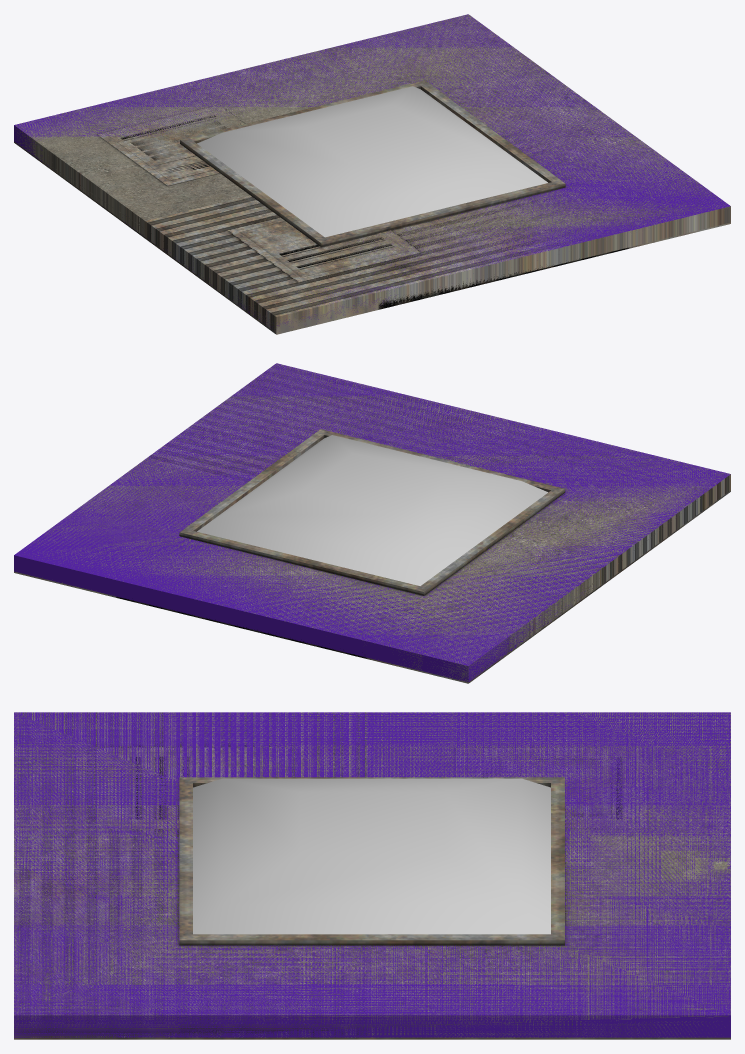
Rendered from ceiling_tile_skylight.DAE.
3 renders of one model, top to bottom at view 1: azimuth 30°, elevation 25°; view 2: azimuth 150°, elevation 25°; view 3: azimuth 270°, elevation 25°, orthographic. The views are drawn at different scales.
Visible parts, largest first — view 1: LP_ceiling_tile_skylight, colbox-02, bounds, Skylight_Glass; view 2: bounds, LP_ceiling_tile_skylight, Skylight_Glass, colbox-02; view 3: bounds, LP_ceiling_tile_skylight, Skylight_Glass, colbox-02.
Part boxes in pixels (x1,y1,x2,y2): LP_ceiling_tile_skylight: (14, 14, 730, 334); colbox-02: (15, 23, 730, 332); bounds: (14, 14, 729, 329); Skylight_Glass: (197, 86, 547, 237); bounds: (14, 363, 730, 681); LP_ceiling_tile_skylight: (14, 364, 730, 683); Skylight_Glass: (197, 435, 547, 585); colbox-02: (19, 364, 730, 678); bounds: (14, 712, 730, 1037); LP_ceiling_tile_skylight: (14, 712, 730, 1039); Skylight_Glass: (193, 778, 550, 934); colbox-02: (14, 712, 730, 1037).
Bounding box in the file's own units: 700 × 700 × 73.22.
